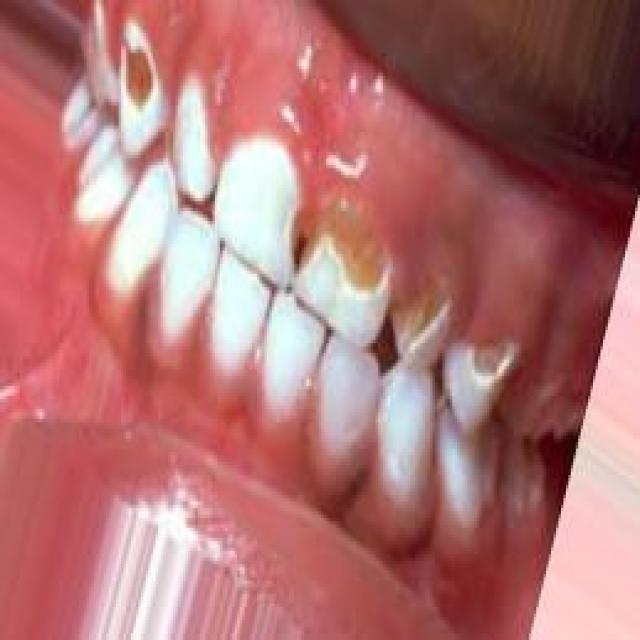caries: (283, 187, 388, 311), (387, 264, 453, 361), (109, 19, 165, 123), (462, 326, 520, 396)
